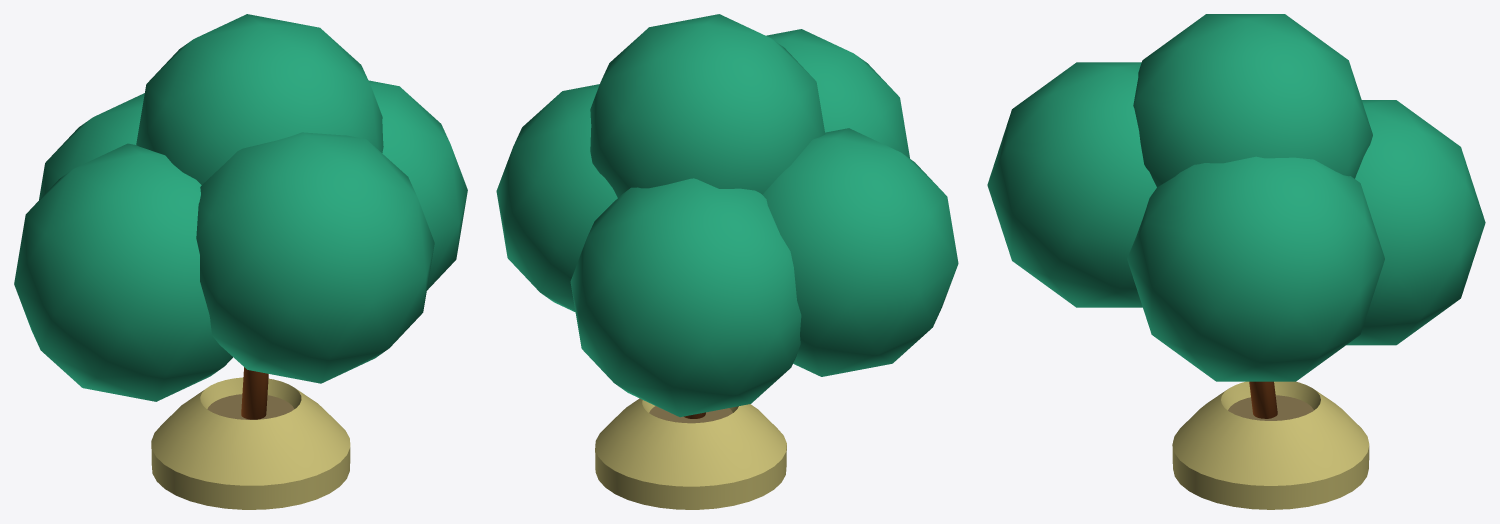
Rendered from Plant.3.fbx.
The picture shows the model from 3 angles, left to right: view 1: azimuth 30°, elevation 25°; view 2: azimuth 150°, elevation 25°; view 3: azimuth 270°, elevation 25°; orthographic projection. The views are drawn at different scales.
Visible parts, largest first — view 1: folhas, VPlanta, Tronco, Círculo; view 2: folhas, VPlanta, Círculo; view 3: folhas, VPlanta, Círculo, Tronco.
Boxes of the visible parts, bbox=[...] form: folhas: bbox=[14, 14, 467, 401]; VPlanta: bbox=[151, 377, 350, 509]; Tronco: bbox=[241, 367, 268, 419]; Círculo: bbox=[207, 394, 294, 419]; folhas: bbox=[496, 14, 958, 417]; VPlanta: bbox=[595, 398, 786, 509]; Círculo: bbox=[649, 406, 732, 423]; folhas: bbox=[987, 14, 1485, 381]; VPlanta: bbox=[1172, 381, 1369, 509]; Círculo: bbox=[1228, 395, 1313, 420]; Tronco: bbox=[1249, 381, 1277, 418].
Bounding box in the file's own units: 252 × 257 × 259.
